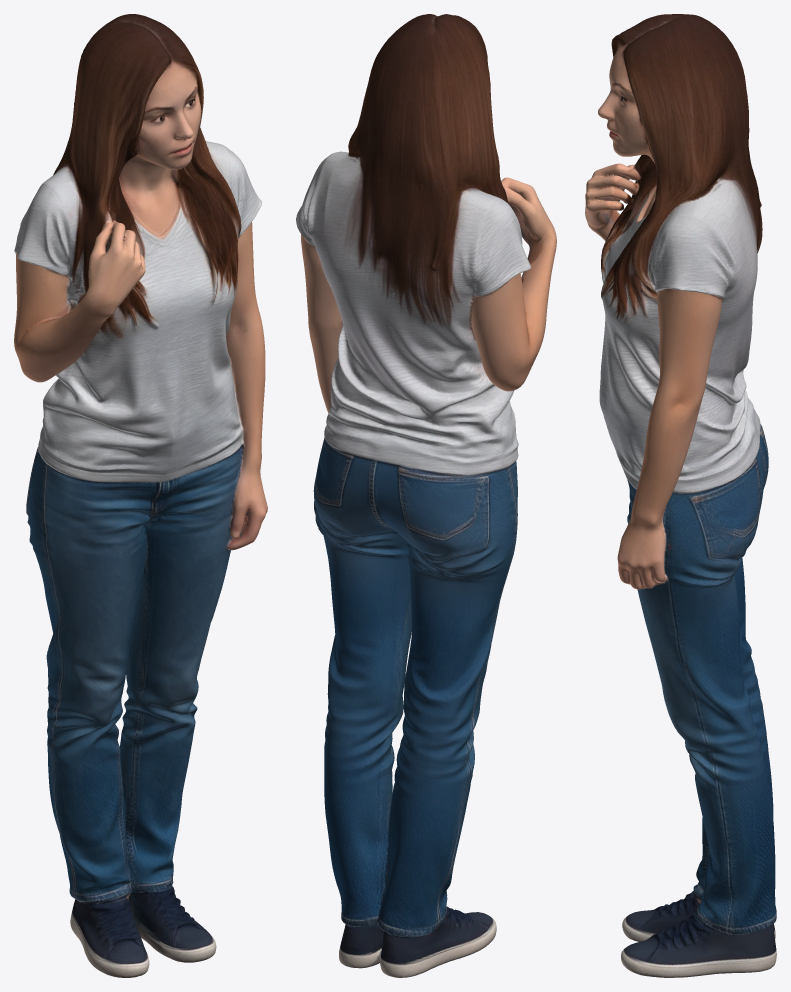
File: contemplative-woman-in-casual-jeans-and-t-shirt-fb259d6b.glb
The picture shows the model from 3 angles, left to right: view 1: azimuth 30°, elevation 25°; view 2: azimuth 150°, elevation 25°; view 3: azimuth 270°, elevation 25°; orthographic projection.
Parts seen in each view (by area): view 1: mesh_0; view 2: mesh_0; view 3: mesh_0.
Boxes of the visible parts, bbox=[...] form: mesh_0: bbox=[14, 14, 267, 977]; mesh_0: bbox=[296, 14, 556, 977]; mesh_0: bbox=[585, 14, 776, 977].
Bounding box in the file's own units: 0.5028 × 1.9 × 0.3544.
1 material, 1 textured.
